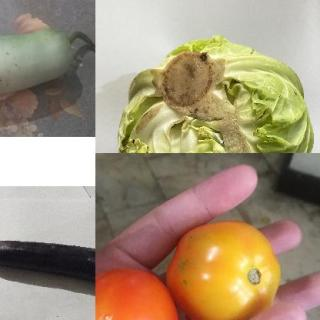Tomat: (96, 217, 306, 320)
